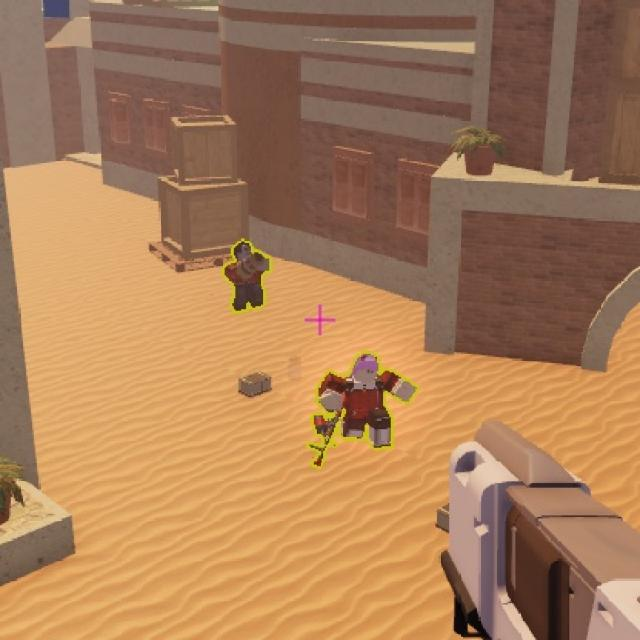player: (328, 346, 395, 448), (225, 239, 267, 315)
